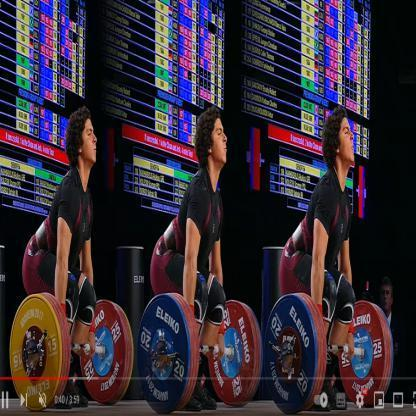barbell: (264, 291, 396, 412), (135, 292, 264, 414), (7, 292, 135, 408)
